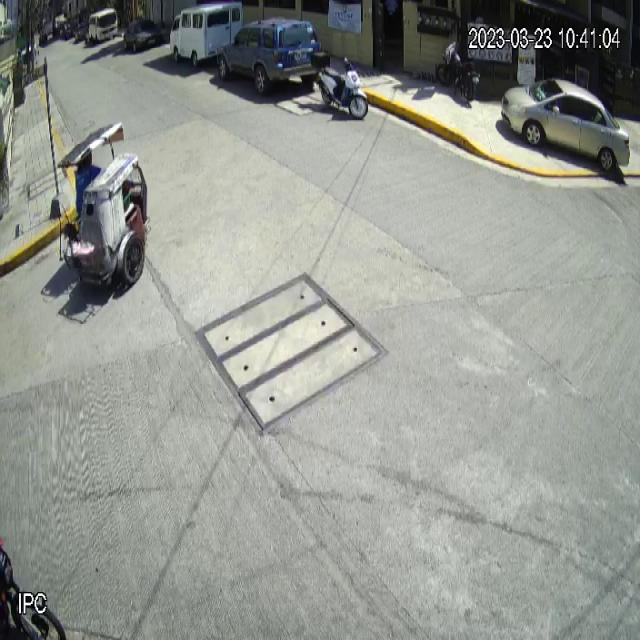Car: (501, 75, 632, 172), (216, 16, 323, 96)
Motorcycle: (311, 48, 369, 120)
Tricycle: (52, 121, 148, 289)
Van: (169, 0, 242, 69)
